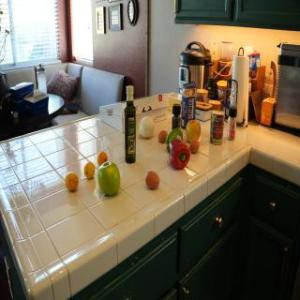bell_pepper: (169, 142, 191, 172), (165, 130, 183, 152)
egg: (144, 170, 160, 190), (189, 142, 201, 154), (158, 128, 168, 142)
onion: (138, 116, 156, 138)
